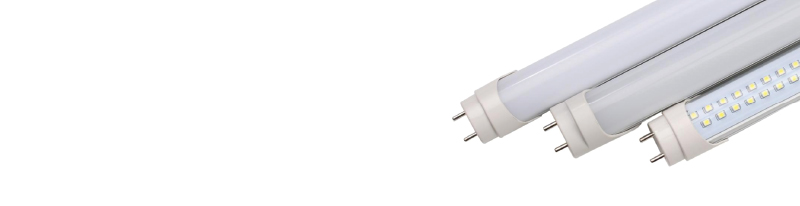Light_bulb: (436, 2, 762, 150), (545, 1, 800, 157), (629, 40, 800, 171)
